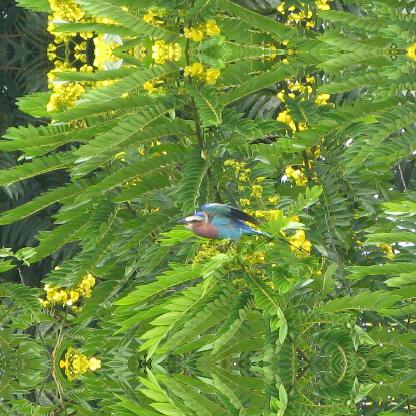Bird: (176, 199, 274, 247)
